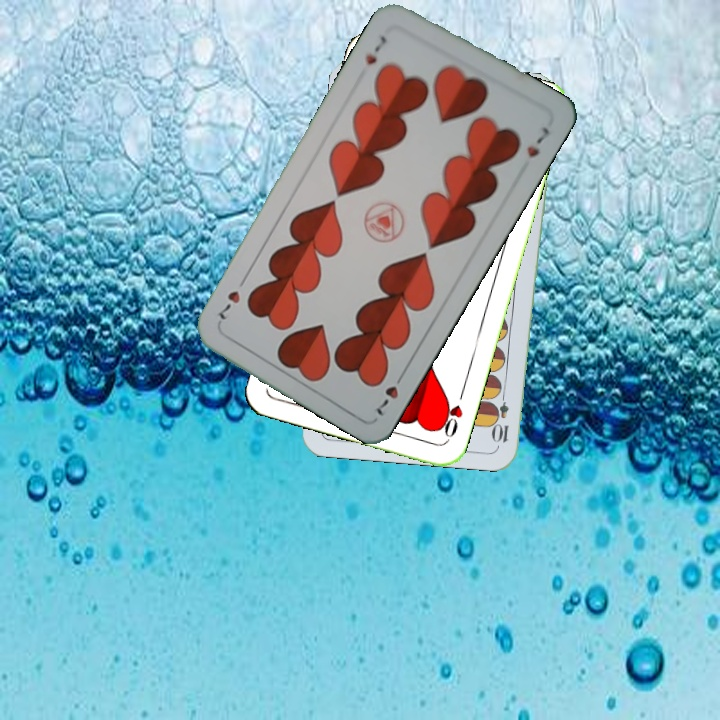E10: (492, 386, 512, 445)
H7: (372, 366, 409, 419), (361, 31, 389, 68)
HO: (435, 385, 468, 443)
